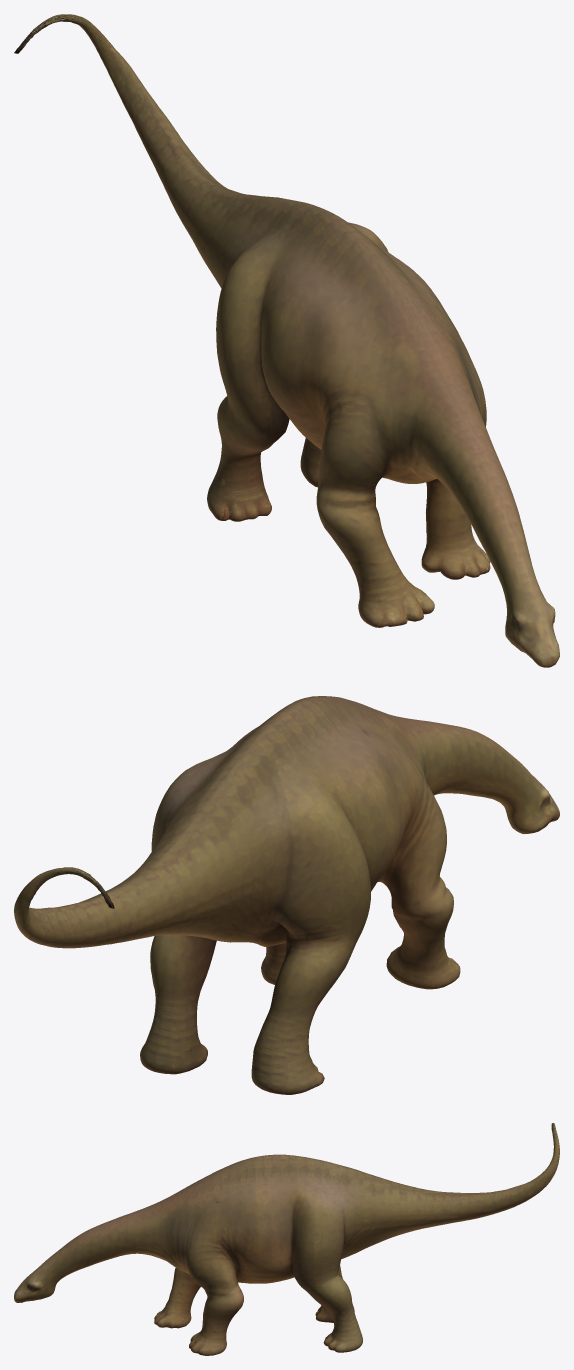
The picture shows the model from 3 angles, top to bottom: view 1: azimuth 30°, elevation 25°; view 2: azimuth 150°, elevation 25°; view 3: azimuth 270°, elevation 25°; orthographic projection. The views are drawn at different scales.
Visible parts, largest first — view 1: world; view 2: world; view 3: world.
Part boxes in pixels (x1,y1,x2,y2): world: (14, 14, 559, 667); world: (14, 696, 559, 1094); world: (14, 1123, 559, 1355).
Size of the model in its own units: 4.94 by 8.88 by 22.
1 material, 1 textured.
